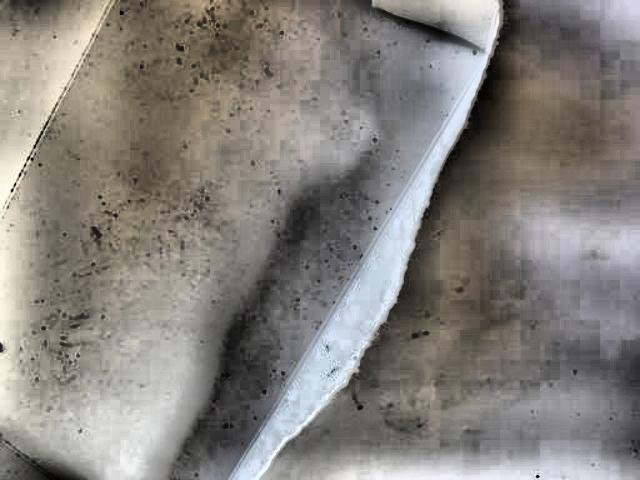Paper: (0, 0, 509, 480)
